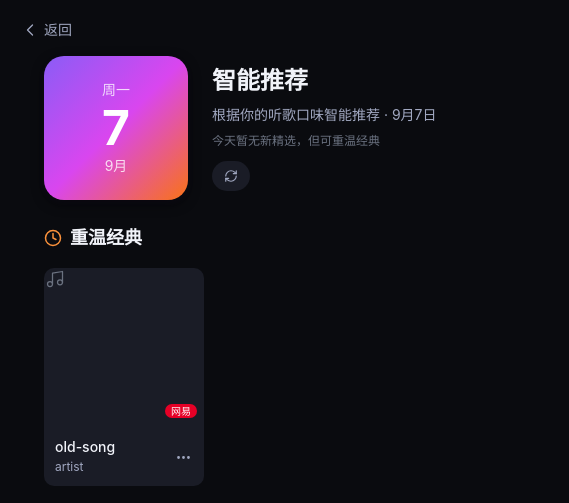
Scenario: 每日推荐的空结果恢复 › 空结果有重温经典=true 时仍可刷新并获得新歌曲
expect the text "今天暂无新精选，但可重温经典" is shown: met, box x1=212 y1=133 x2=380 y2=148
Click the button named "刷新推荐" at (231, 176), box x1=212 y1=161 x2=250 y2=191
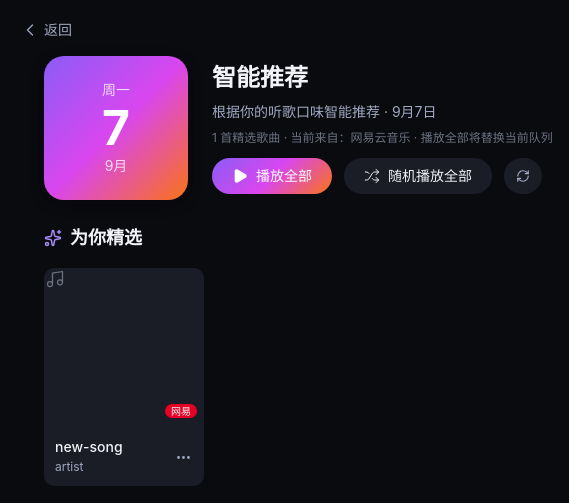
expect the text "new-song" is shown: met, box x1=55 y1=438 x2=123 y2=455
